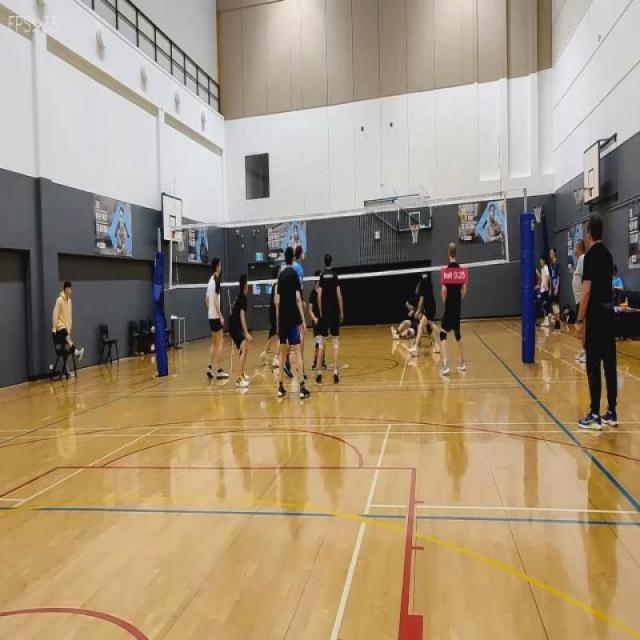volleyball: (459, 212, 466, 222)
